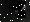person: (16, 2, 26, 19)
